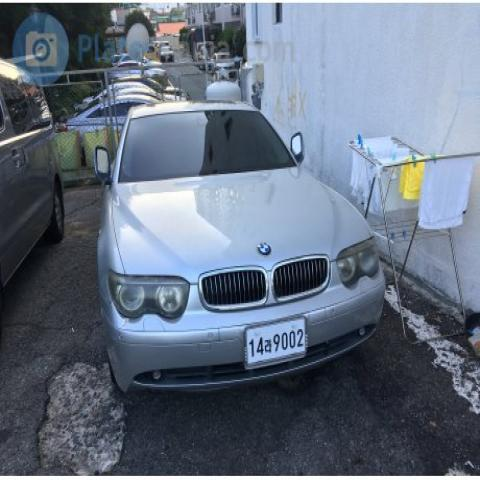LP: (241, 305, 310, 383)
